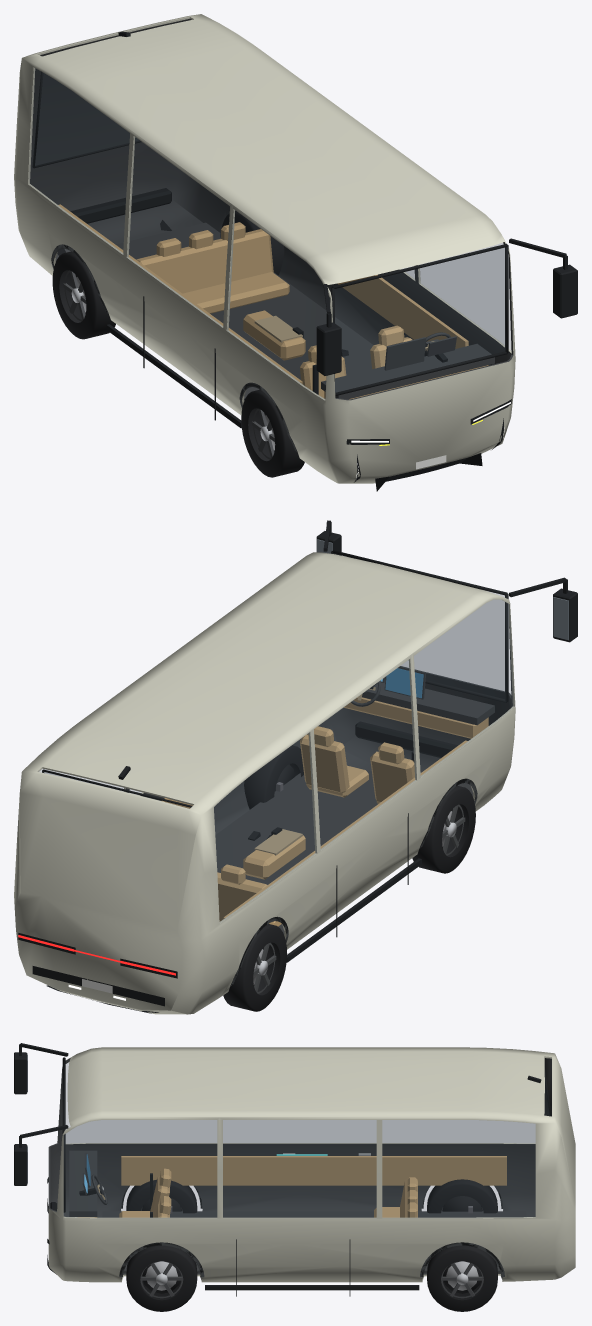
Rendered from training-midibus.glb.
The picture shows the model from 3 angles, top to bottom: view 1: azimuth 30°, elevation 25°; view 2: azimuth 150°, elevation 25°; view 3: azimuth 270°, elevation 25°; orthographic projection. The views are drawn at different scales.
Parts seen in each view (by area): view 1: Body, Surface_CarRoot_Glass, Interior_CarRoot_InteriorLeather, Interior_CarRoot_InteriorDark, Surface_CarRoot_BlackTrim, Surface_WheelFrontR_Tyre, Surface_WheelRearR_Tyre, Surface_WheelRearL_Tyre, Surface_CarRoot_Cladding, Interior_CarRoot_InteriorTrim; view 2: Body, Surface_CarRoot_Glass, Interior_CarRoot_InteriorDark, Interior_CarRoot_InteriorLeather, Surface_CarRoot_BlackTrim, Surface_WheelRearR_Tyre, Surface_WheelFrontR_Tyre, Surface_WheelFrontL_Tyre, Surface_CarRoot_MirrorGlass, InteriorCenterScreen, Surface_CarRoot_Cladding, Interior_CarRoot_InteriorTrim; view 3: Body, Surface_CarRoot_Glass, Interior_CarRoot_InteriorLeather, Interior_CarRoot_InteriorDark, Surface_CarRoot_BlackTrim, Surface_WheelRearL_Tyre, Surface_WheelFrontL_Tyre, Surface_WheelRearR_Tyre, Surface_WheelFrontR_Tyre, Surface_CarRoot_Cladding, Surface_WheelFrontL_Rim, Surface_WheelRearL_Rim (+2 smaller).
Boxes of the visible parts, box(x1,y1,x2,y2) form: Body: box(14, 14, 515, 483); Surface_CarRoot_Glass: box(28, 68, 510, 399); Interior_CarRoot_InteriorLeather: box(58, 204, 488, 399); Interior_CarRoot_InteriorDark: box(55, 222, 494, 400); Surface_CarRoot_BlackTrim: box(32, 31, 577, 491); Surface_WheelFrontR_Tyre: box(241, 389, 304, 477); Surface_WheelRearR_Tyre: box(52, 251, 115, 339); Surface_WheelRearL_Tyre: box(220, 211, 284, 275); Surface_CarRoot_Cladding: box(51, 244, 296, 451); Interior_CarRoot_InteriorTrim: box(254, 315, 302, 342); Body: box(14, 552, 515, 1014); Surface_CarRoot_Glass: box(40, 592, 514, 922); Interior_CarRoot_InteriorDark: box(215, 666, 494, 934); Interior_CarRoot_InteriorLeather: box(161, 697, 488, 926); Surface_CarRoot_BlackTrim: box(18, 520, 577, 1013); Surface_WheelRearR_Tyre: box(223, 924, 287, 1011); Surface_WheelFrontR_Tyre: box(412, 785, 475, 873); Surface_WheelFrontL_Tyre: box(244, 745, 303, 809); Surface_CarRoot_MirrorGlass: box(317, 539, 568, 640); InteriorCenterScreen: box(385, 668, 423, 698); Surface_CarRoot_Cladding: box(231, 778, 477, 985); Interior_CarRoot_InteriorTrim: box(254, 829, 302, 855); Body: box(48, 1047, 575, 1282); Surface_CarRoot_Glass: box(64, 1063, 550, 1217); Interior_CarRoot_InteriorLeather: box(78, 1156, 506, 1217); Interior_CarRoot_InteriorDark: box(69, 1150, 526, 1273); Surface_CarRoot_BlackTrim: box(14, 1043, 551, 1296); Surface_WheelRearL_Tyre: box(427, 1245, 497, 1311); Surface_WheelFrontL_Tyre: box(126, 1245, 197, 1311); Surface_WheelRearR_Tyre: box(427, 1179, 497, 1213); Surface_WheelFrontR_Tyre: box(126, 1179, 197, 1213); Surface_CarRoot_Cladding: box(119, 1185, 504, 1277); Surface_WheelFrontL_Rim: box(140, 1262, 183, 1298); Surface_WheelRearL_Rim: box(441, 1262, 483, 1298).
Size of the model in its own units: 2.84 by 2.66 by 6.85.
